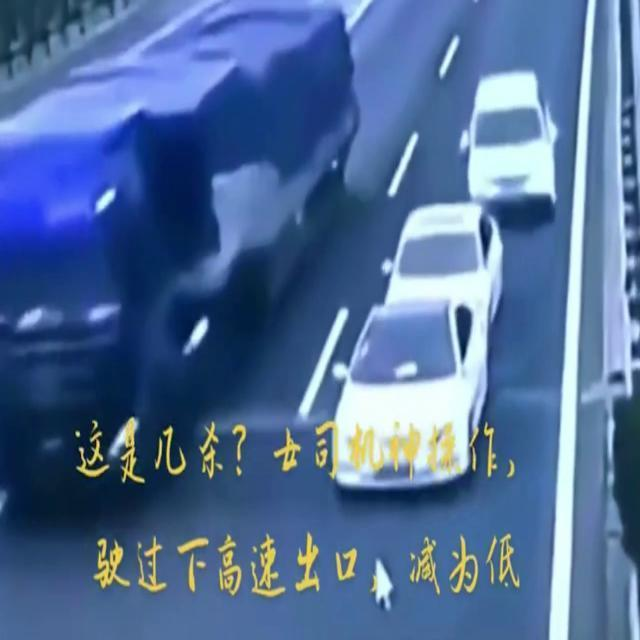accident: (329, 196, 506, 492)
